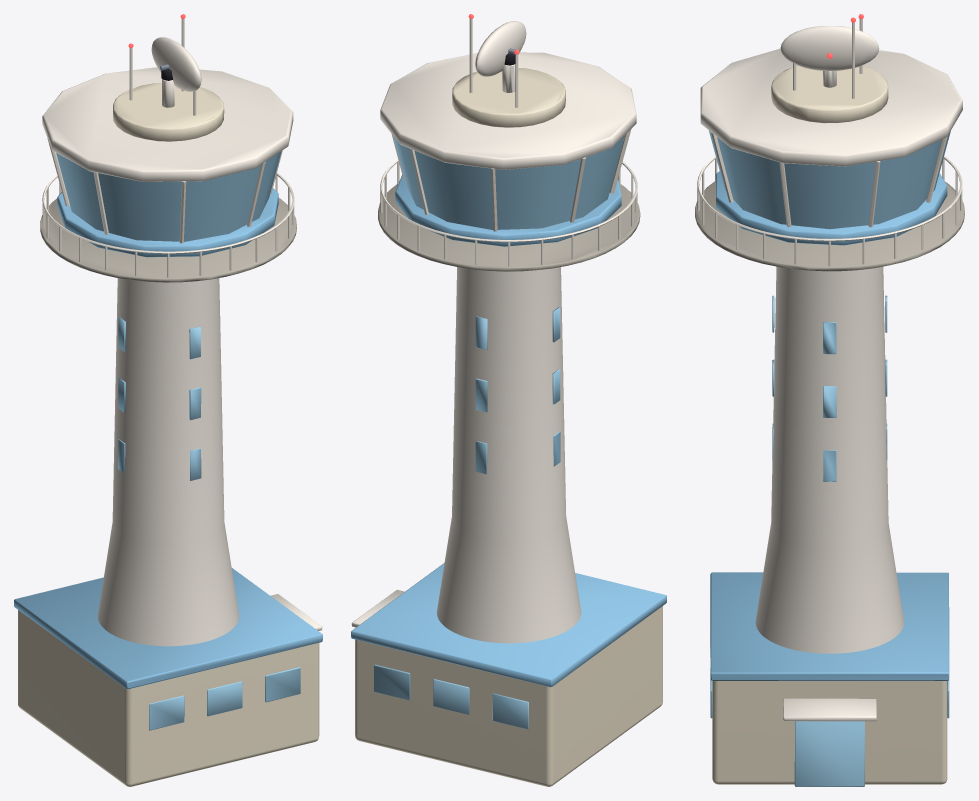
Rendered from control_tower.glb.
The picture shows the model from 3 angles, left to right: view 1: azimuth 30°, elevation 25°; view 2: azimuth 150°, elevation 25°; view 3: azimuth 270°, elevation 25°; orthographic projection. The views are drawn at different scales.
Visible parts, largest first — view 1: control_tower.001, radar.001; view 2: control_tower.001, radar.001; view 3: control_tower.001, radar.001.
Part boxes in pixels (x1=…): control_tower.001: x1=14, y1=14, x2=322, y2=786; radar.001: x1=151, y1=37, x2=201, y2=91; control_tower.001: x1=351, y1=14, x2=666, y2=786; radar.001: x1=475, y1=21, x2=526, y2=76; control_tower.001: x1=695, y1=14, x2=964, y2=786; radar.001: x1=780, y1=26, x2=879, y2=70.
Size of the model in its own units: 7.54 by 20.62 by 6.89.
1 material, 1 textured.
